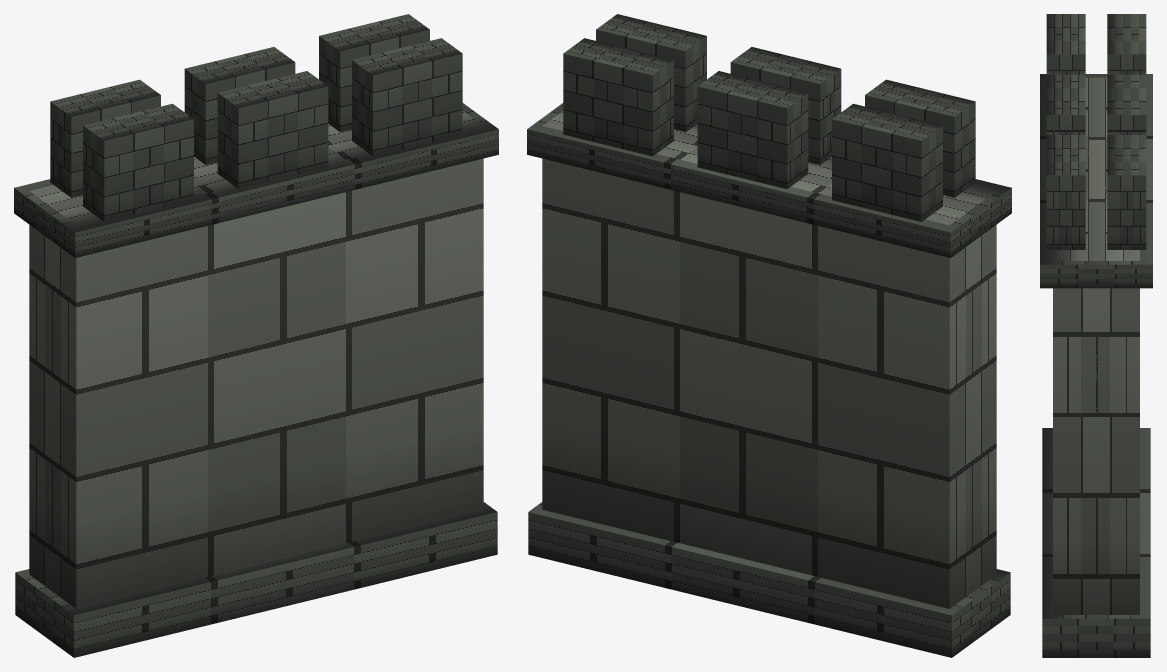
Rendered from wall.gltf.
3 views of the same model, side by side, from view 1: azimuth 30°, elevation 25°; view 2: azimuth 150°, elevation 25°; view 3: azimuth 270°, elevation 25° (orthographic). The views are drawn at different scales.
Visible parts, largest first — view 1: wall; view 2: wall; view 3: wall.
Part boxes in pixels (x1,y1,x2,y2): wall: [14, 14, 498, 657]; wall: [527, 14, 1011, 657]; wall: [1040, 14, 1152, 657].
Bounding box in the file's own units: 1.04 × 1.19 × 0.26.
1 material, 1 textured.
